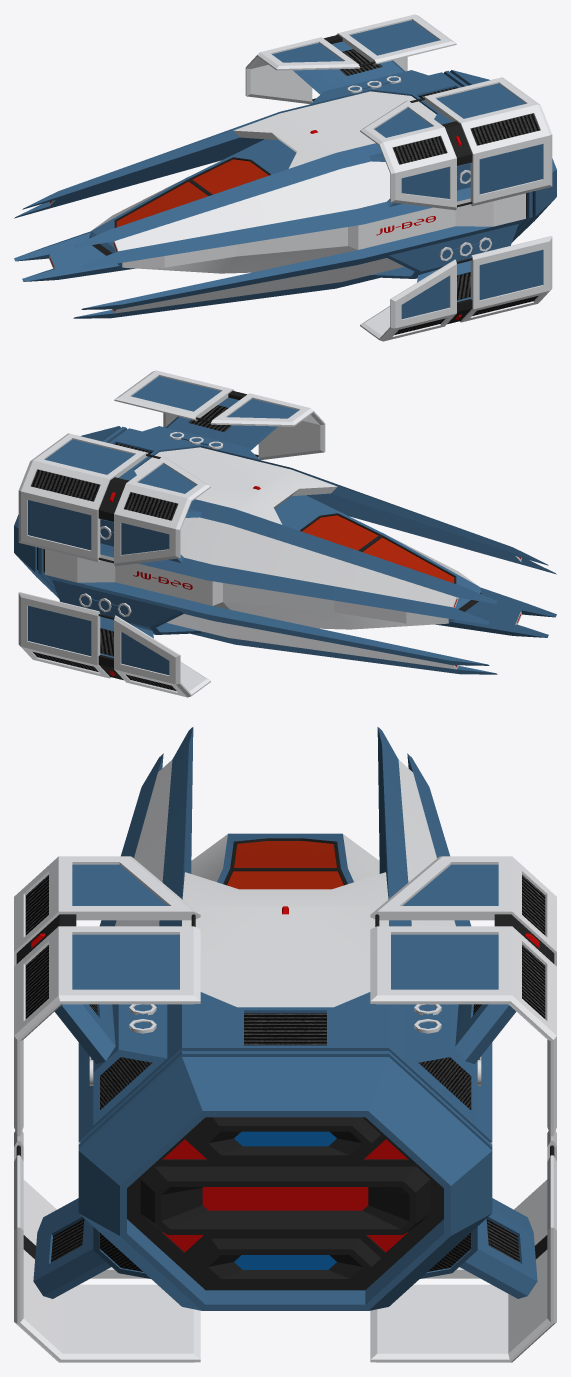
File: spaceship2.dae
3 views of the same model, one above another, from view 1: azimuth 30°, elevation 25°; view 2: azimuth 150°, elevation 25°; view 3: azimuth 270°, elevation 25° (orthographic). The views are drawn at different scales.
Visible parts, largest first — view 1: instance_10, instance_3, instance_11, instance_2, instance_0, instance_5, instance_6, instance_4; view 2: instance_11, instance_0, instance_10, instance_1, instance_3, instance_7, instance_4, instance_6; view 3: instance_10, instance_11, instance_0, instance_3, instance_1, instance_2, instance_4, instance_6, instance_5, instance_7.
Boxes of the visible parts, <box> form: instance_10: <box>73,103,556,318</box>; instance_3: <box>360,77,552,210</box>; instance_11: <box>14,70,489,281</box>; instance_2: <box>360,236,552,341</box>; instance_0: <box>245,14,456,103</box>; instance_5: <box>369,224,518,301</box>; instance_6: <box>293,41,428,104</box>; instance_4: <box>369,153,470,206</box>; instance_11: <box>14,459,497,674</box>; instance_0: <box>18,433,210,566</box>; instance_10: <box>81,426,556,637</box>; instance_1: <box>18,592,210,697</box>; instance_3: <box>114,370,325,459</box>; instance_7: <box>52,580,201,657</box>; instance_4: <box>142,397,277,460</box>; instance_6: <box>100,509,201,562</box>; instance_10: <box>78,727,285,1310</box>; instance_11: <box>285,727,492,1310</box>; instance_0: <box>370,856,556,1136</box>; instance_3: <box>14,856,200,1136</box>; instance_1: <box>370,1131,556,1362</box>; instance_2: <box>14,1131,200,1362</box>; instance_4: <box>54,1004,167,1124</box>; instance_6: <box>403,1004,516,1124</box>; instance_5: <box>33,1198,150,1298</box>; instance_7: <box>420,1198,537,1298</box>.
Bounding box in the file's own units: 281 × 155 × 116.
Materials: 7 (1 with a texture image).
